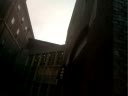window: (96, 68, 117, 96), (88, 14, 107, 42), (63, 71, 74, 95), (62, 25, 73, 48), (9, 79, 18, 96), (14, 43, 22, 61), (33, 37, 40, 56), (29, 77, 36, 94), (62, 2, 71, 11)
